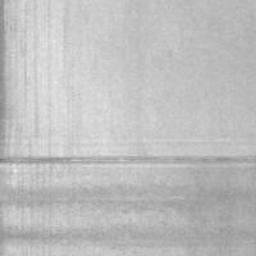Welding line: (0, 155, 256, 165)
